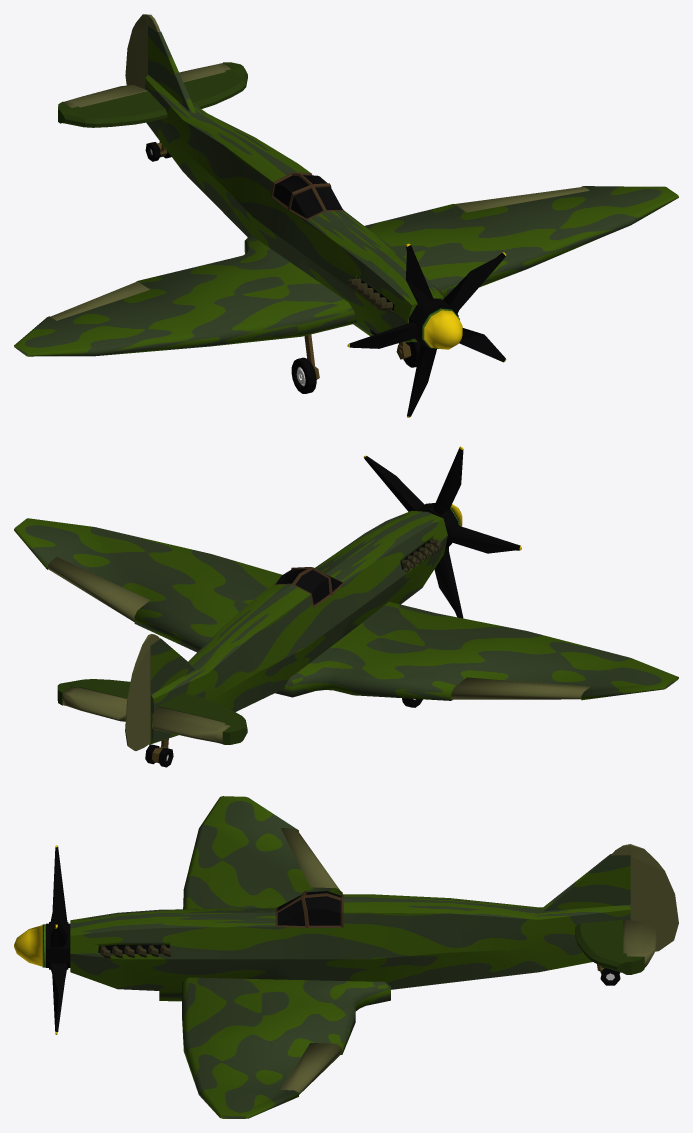
The model's file is Supermarine Spitfire.fbx.
3 renders of one model, top to bottom at view 1: azimuth 30°, elevation 25°; view 2: azimuth 150°, elevation 25°; view 3: azimuth 270°, elevation 25°, orthographic.
Parts seen in each view (by area): view 1: Wings, Body, Propeller, HStabalisers, Flippers, Wheels, Rudder, NoseTop, Elevator, Exhaust; view 2: Wings, Body, Flippers, Propeller, Elevator, HStabalisers, Rudder, Exhaust; view 3: Body, Wings, Rudder, Flippers, HStabalisers, Propeller, Elevator, NoseTop, Exhaust.
Part boxes in pixels (x1,y1,x2,y2): Wings: (14,186,678,356); Body: (145,25,443,342); Propeller: (347,243,506,417); HStabalisers: (58,62,247,127); Flippers: (50,186,589,320); Wheels: (291,334,420,393); Rudder: (125,14,160,89); NoseTop: (422,308,462,349); Elevator: (64,63,231,107); Exhaust: (347,278,442,310); Wings: (14,518,678,700); Body: (145,510,447,767); Flippers: (48,556,589,699); Propeller: (363,446,521,618); Elevator: (62,687,230,743); HStabalisers: (57,679,247,744); Rudder: (125,634,159,750); Exhaust: (401,539,441,572); Body: (70,854,630,1001); Wings: (182,796,390,1118); Rudder: (611,844,678,951); Flippers: (280,828,341,1094); HStabalisers: (575,920,644,974); Propeller: (49,845,68,1034); Elevator: (623,920,657,967); NoseTop: (14,924,45,967); Exhaust: (99,944,170,958).
Size of the model in its own units: 262 by 80.88 by 230.
Materials: 16 (2 with a texture image).
